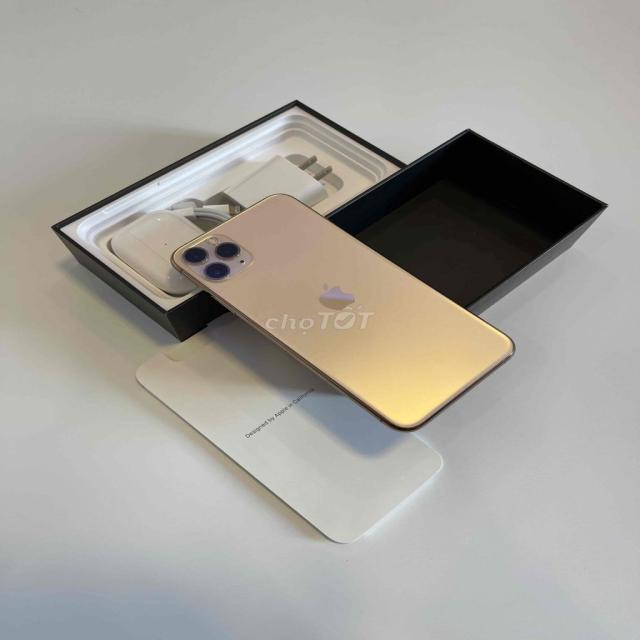gen_11: (165, 183, 521, 445)
